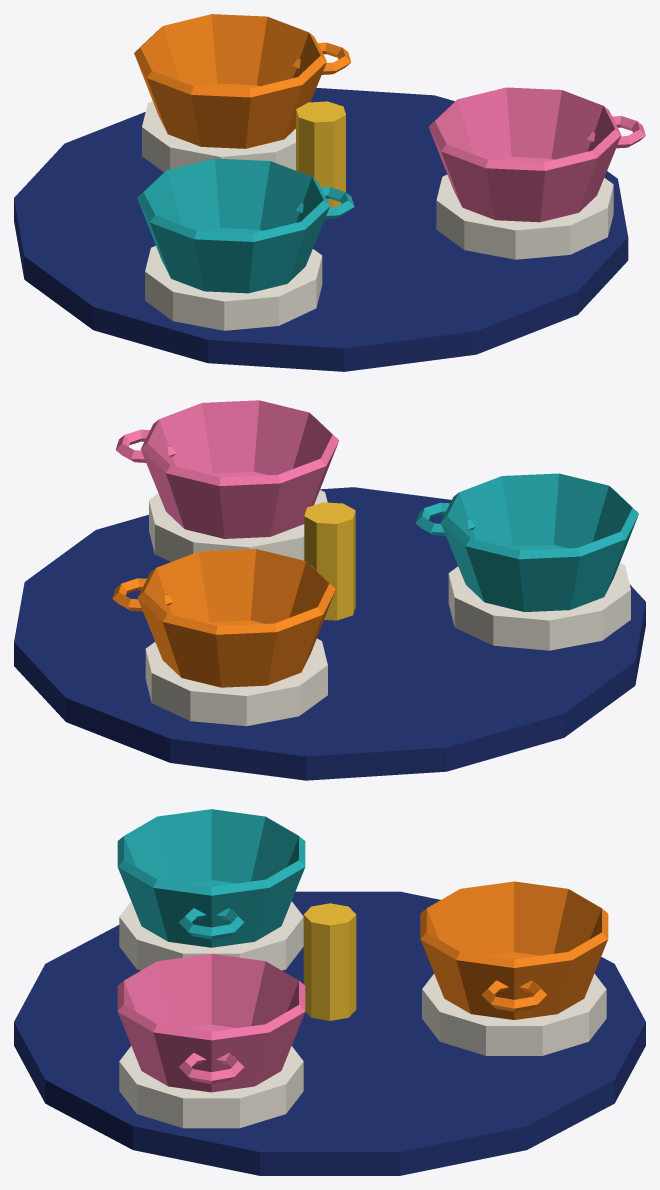
File: spinning_teacups.glb
3 renders of one model, top to bottom at view 1: azimuth 30°, elevation 25°; view 2: azimuth 150°, elevation 25°; view 3: azimuth 270°, elevation 25°, orthographic. The views are drawn at different scales.
Parts seen in each view (by area): view 1: spinning_teacups; view 2: spinning_teacups; view 3: spinning_teacups.
Boxes of the visible parts, <box> form: spinning_teacups: <box>14,14,645,371</box>; spinning_teacups: <box>14,400,645,780</box>; spinning_teacups: <box>14,809,645,1175</box>.
Bounding box in the file's own units: 4.69 × 1.1 × 4.8.
